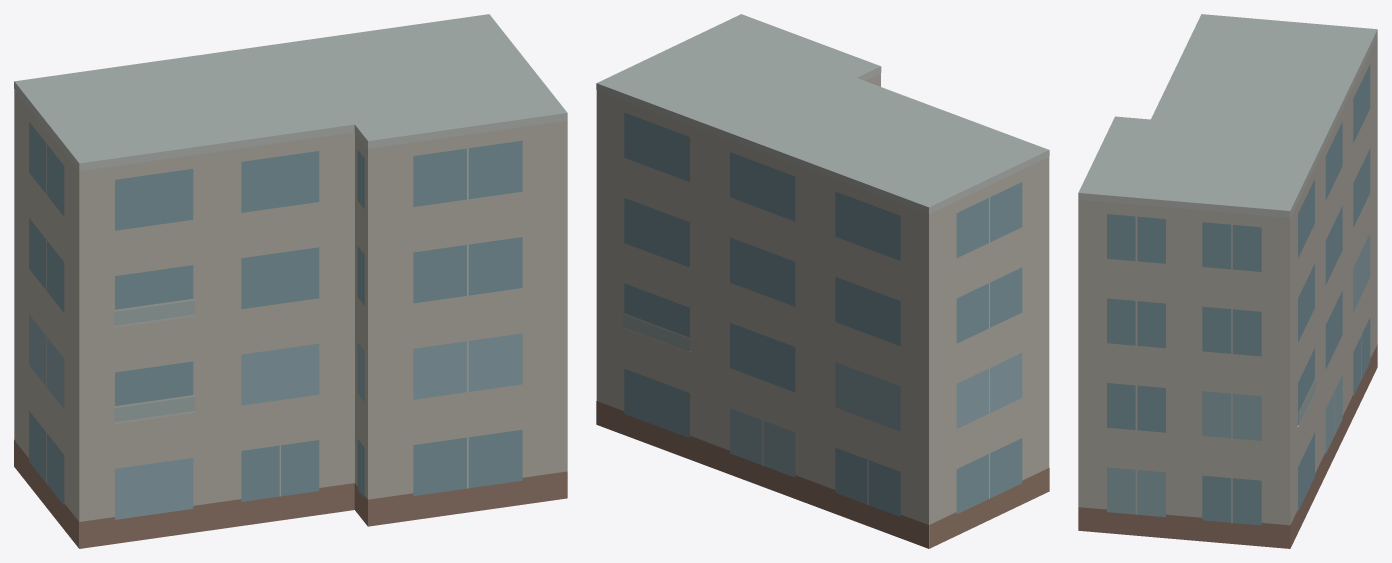
Rendered from residential-c5503f0b-7ac8-4048-8908-29fe013f3242.glb.
The picture shows the model from 3 angles, left to right: view 1: azimuth 30°, elevation 25°; view 2: azimuth 150°, elevation 25°; view 3: azimuth 270°, elevation 25°; orthographic projection. The views are drawn at different scales.
Visible parts, largest first — view 1: residential-c5503f0b-7ac8-4048-8908-29fe013f3242.tmp; view 2: residential-c5503f0b-7ac8-4048-8908-29fe013f3242.tmp; view 3: residential-c5503f0b-7ac8-4048-8908-29fe013f3242.tmp.
Part boxes in pixels (x1,y1,x2,y2): residential-c5503f0b-7ac8-4048-8908-29fe013f3242.tmp: (14, 14, 567, 548); residential-c5503f0b-7ac8-4048-8908-29fe013f3242.tmp: (596, 14, 1049, 548); residential-c5503f0b-7ac8-4048-8908-29fe013f3242.tmp: (1078, 14, 1377, 548).
Size of the model in its own units: 15.27 by 12.2 by 9.81.
